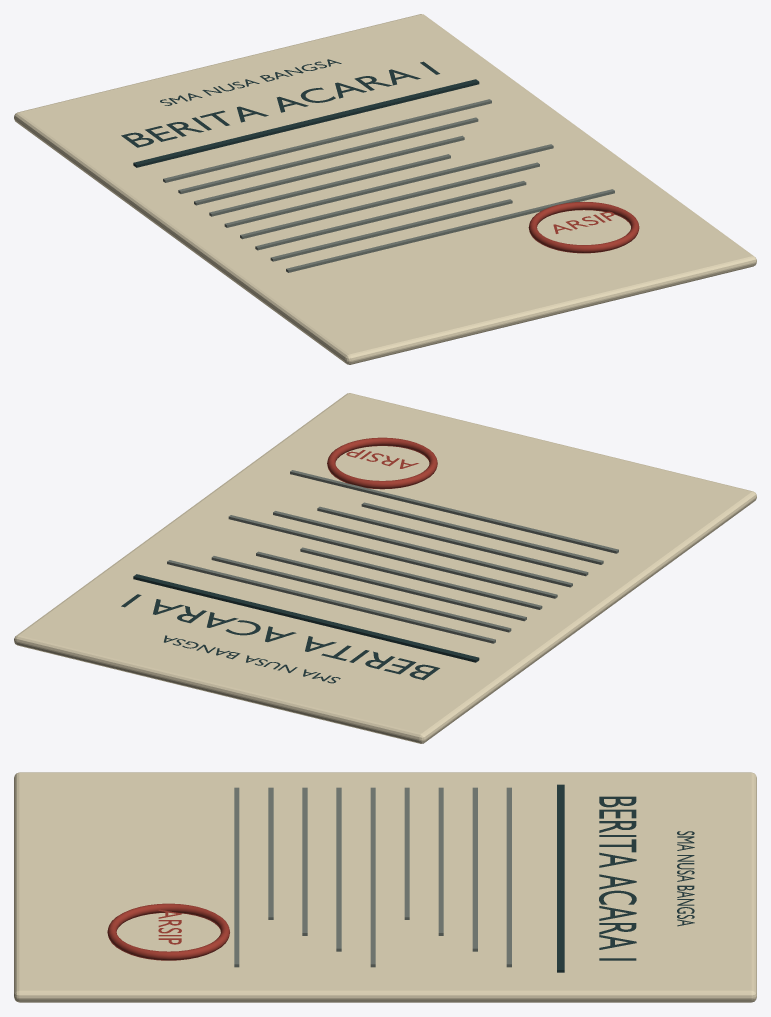
Rendered from witness_statement_01.glb.
3 renders of one model, top to bottom at view 1: azimuth 30°, elevation 25°; view 2: azimuth 150°, elevation 25°; view 3: azimuth 270°, elevation 25°, orthographic. The views are drawn at different scales.
Visible parts, largest first — view 1: witness_statement_01; view 2: witness_statement_01; view 3: witness_statement_01.
Boxes of the visible parts, x1=… form: witness_statement_01: x1=14, y1=14, x2=756, y2=364; witness_statement_01: x1=14, y1=393, x2=756, y2=743; witness_statement_01: x1=14, y1=772, x2=756, y2=1002.
Size of the model in its own units: 0.2104 by 0.00907 by 0.297.
